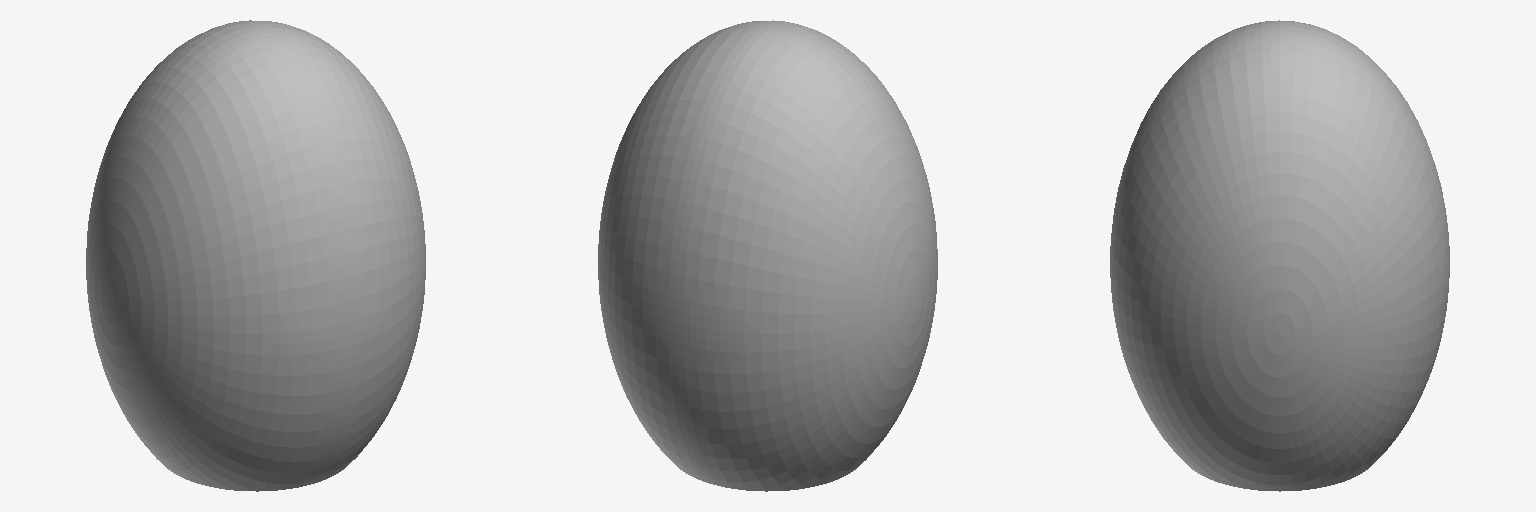
URDF robot description (root):
<robot name="root">
  <link name="link_001">
    <visual>
      <origin xyz="0 0 0" rpy="0 0 0"/>
      <geometry>
        <mesh filename="spheremedium.obj" scale="1.0000E+00 1.0000E+00 1.5000E+00"/>
      </geometry>
      <material name="">
        <color rgba="7.50E-01 7.50E-01 7.50E-01 1"/>
      </material>
    </visual>
    <collision>
      <origin xyz="0 0 0" rpy="0 0 0"/>
      <geometry>
        <mesh filename="spheremedium.obj" scale="1.0000E+00 1.0000E+00 1.5000E+00"/>
      </geometry>
    </collision>
    <inertial>
      <mass value="0.16"/> <!-- 质量：0.1kg -->
    </inertial>
  </link>
</robot>

--- What the picture shows (computed from the rendered views, not written in the file) ---
Views: 3 orthographic renders of the robot side by side, from view 1: azimuth 30°, elevation 25°; view 2: azimuth 150°, elevation 25°; view 3: azimuth 270°, elevation 25°.
Robot: root — 1 links, 0 joints (none); root link link_001; default pose: every joint at zero.
Links seen in each view (by area): view 1: link_001; view 2: link_001; view 3: link_001.
Boxes of the visible links, <box> form: link_001: <box>86,20,425,491</box>; link_001: <box>598,20,937,491</box>; link_001: <box>1110,20,1449,491</box>.
Size in the robot's own frame: 0.0802 by 0.0802 by 0.1088 metres.
1 mesh visuals loaded from 1 distinct referenced files (1 OBJ).
